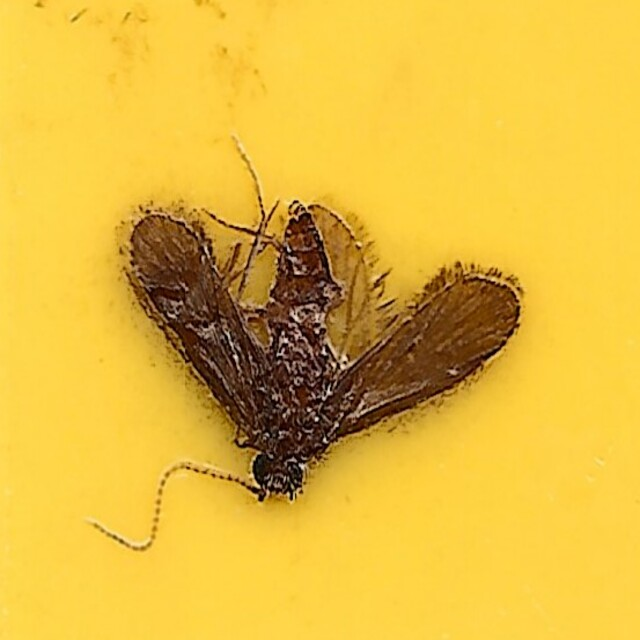Trichoptera: (116, 137, 524, 503)
